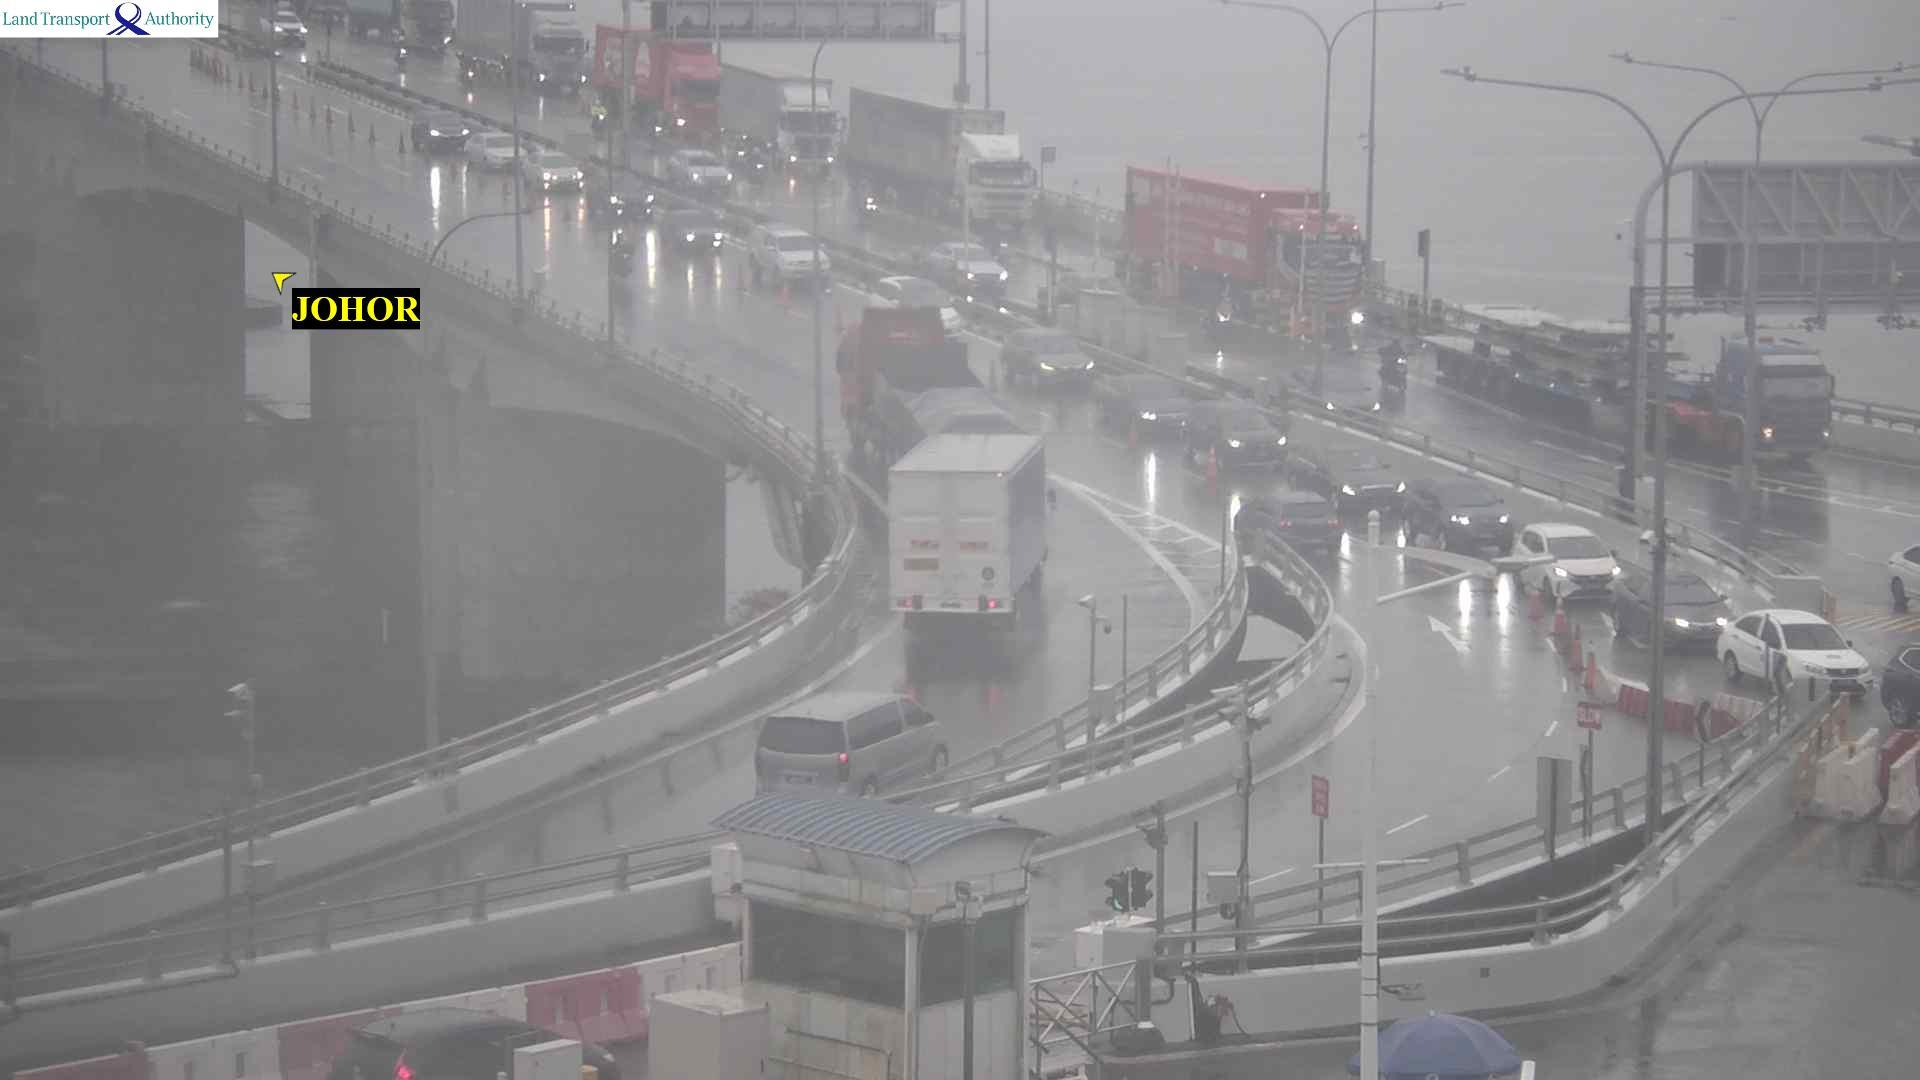vehicle-secondlink-johor: (894, 436, 1044, 609), (841, 307, 1023, 436), (756, 692, 947, 786), (1236, 488, 1341, 554)
vehicle-secondlink-singapore: (1443, 290, 1833, 460), (1124, 170, 1383, 309), (840, 91, 1067, 224), (1598, 550, 1737, 651), (1720, 607, 1869, 696), (723, 63, 833, 182), (597, 26, 719, 127), (1390, 473, 1524, 545), (464, 0, 578, 83), (721, 220, 840, 287), (1515, 525, 1621, 599), (1296, 443, 1407, 513), (1185, 402, 1290, 467), (1006, 332, 1113, 390), (1101, 375, 1196, 436), (876, 278, 963, 342), (348, 3, 463, 47), (927, 241, 1009, 290), (655, 206, 724, 253), (662, 146, 736, 190), (1882, 641, 1920, 723), (588, 173, 655, 218), (524, 152, 582, 194), (1884, 543, 1920, 607), (414, 108, 467, 150), (464, 133, 526, 166), (260, 11, 306, 44), (1378, 336, 1406, 389)
